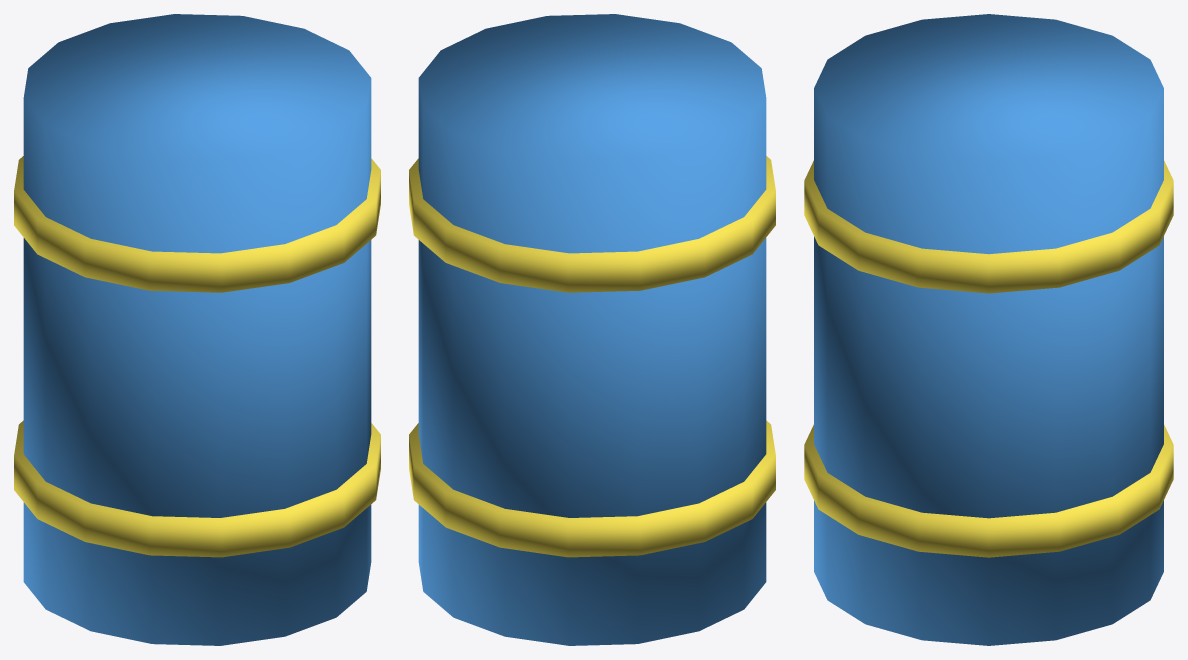
Rendered from barrel.glb.
The picture shows the model from 3 angles, left to right: view 1: azimuth 30°, elevation 25°; view 2: azimuth 150°, elevation 25°; view 3: azimuth 270°, elevation 25°; orthographic projection.
Visible parts, largest first — view 1: DrumBody, Band2, Band1; view 2: DrumBody, Band2, Band1; view 3: DrumBody, Band1, Band2.
Boxes of the visible parts, box(x1,y1,x2,y2) form: DrumBody: box(23, 14, 371, 645); Band2: box(14, 156, 380, 292); Band1: box(14, 420, 380, 557); DrumBody: box(418, 14, 766, 645); Band2: box(409, 156, 775, 292); Band1: box(409, 420, 775, 557); DrumBody: box(814, 14, 1163, 645); Band1: box(804, 424, 1173, 557); Band2: box(804, 160, 1173, 293).
Size of the model in its own units: 0.76 by 1.1 by 0.76.
